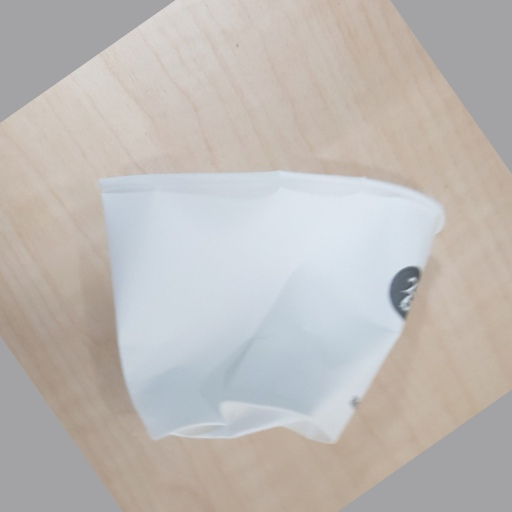Paper_1: (93, 168, 447, 449)
